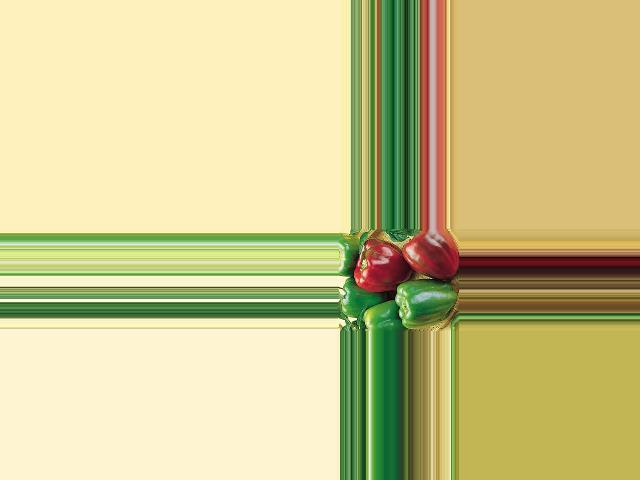bell_pepper: (402, 231, 459, 276)
